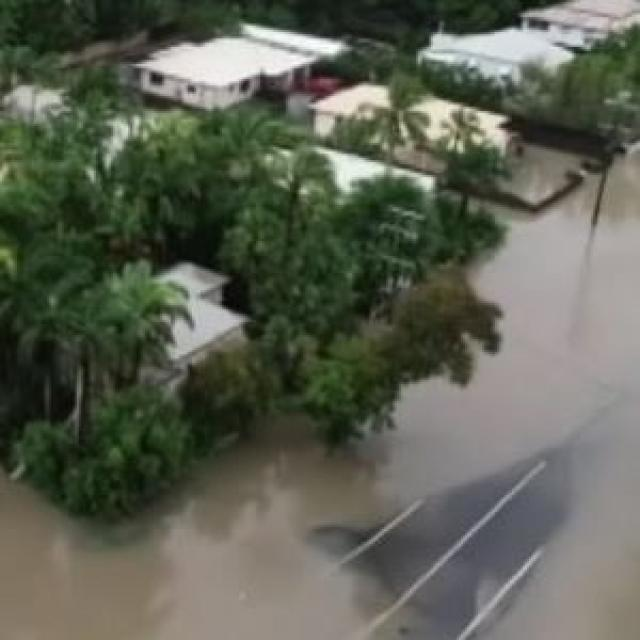flooded_areas: (0, 38, 636, 638)
